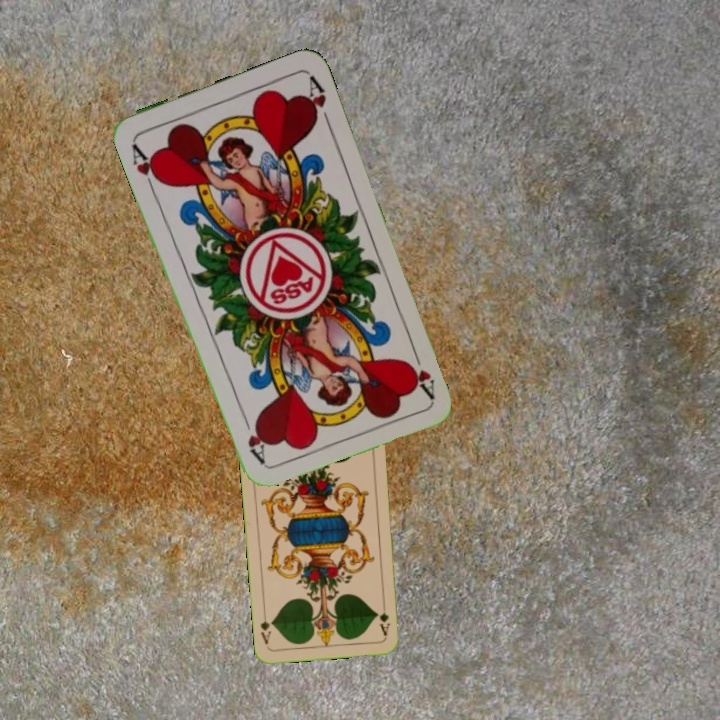GA: (376, 598, 392, 638)
HA: (401, 343, 438, 400), (128, 139, 165, 195)
